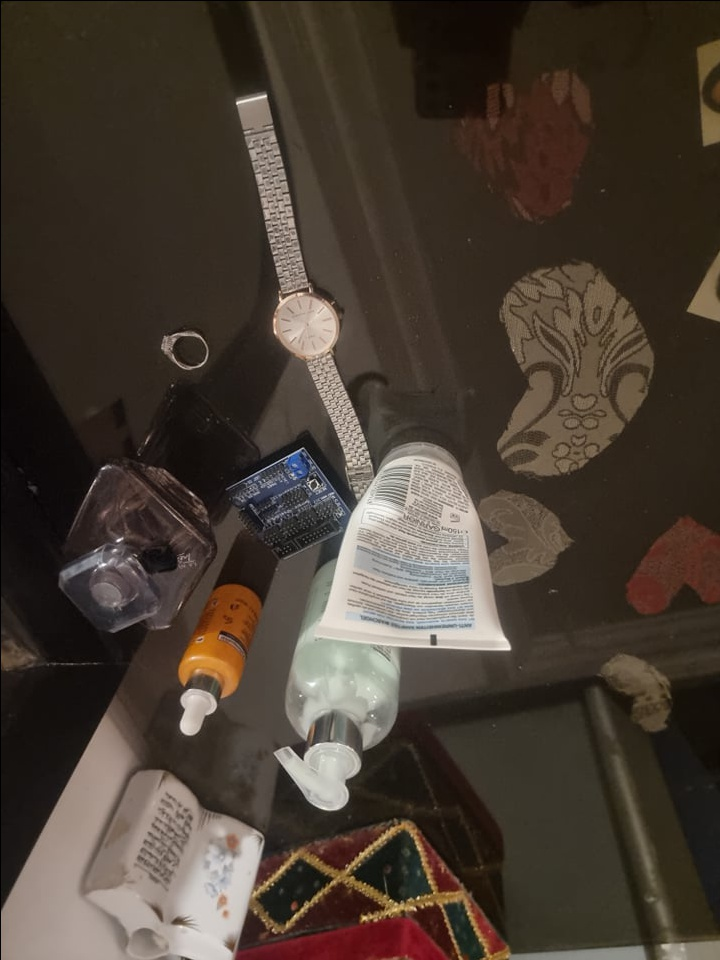5V EXPANSION: (225, 442, 347, 558)
